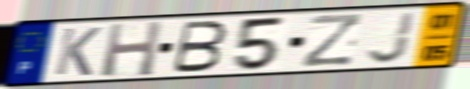5: (229, 14, 294, 73)
B: (169, 20, 231, 75)
H: (99, 19, 165, 79)
J: (364, 10, 419, 66)
K: (51, 26, 104, 78)
Z: (298, 12, 365, 70)
